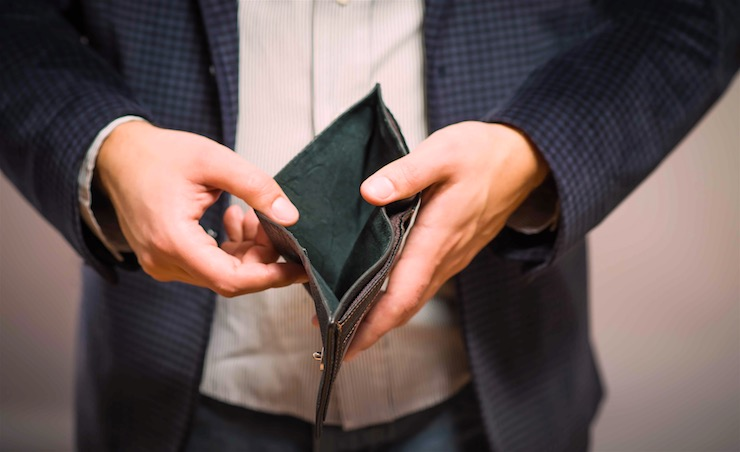monedero: (252, 80, 423, 445)
